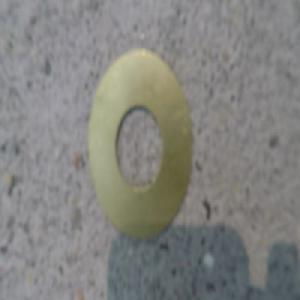Washer: (87, 52, 191, 239)
